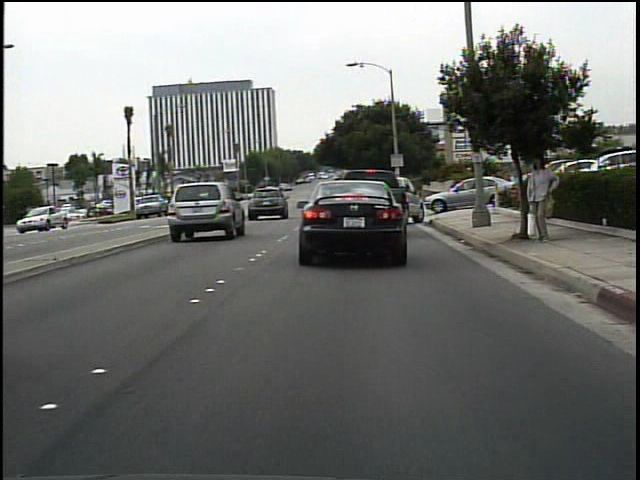person: (523, 150, 562, 246)
